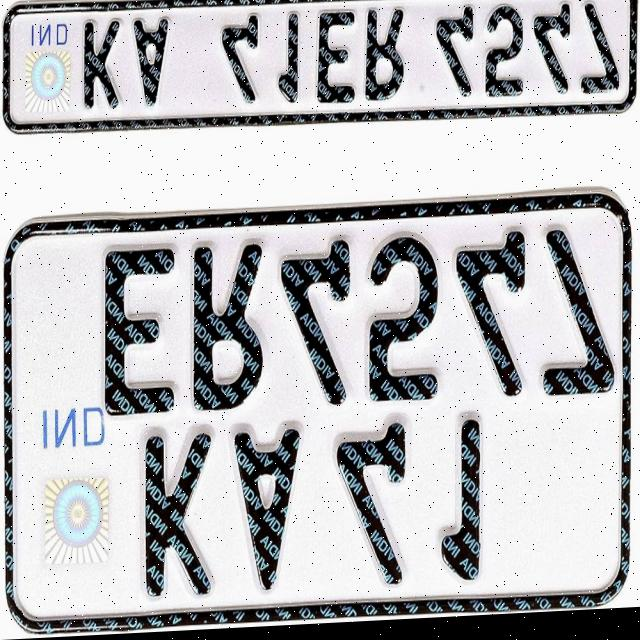plate: (2, 195, 632, 638), (2, 0, 637, 146)
